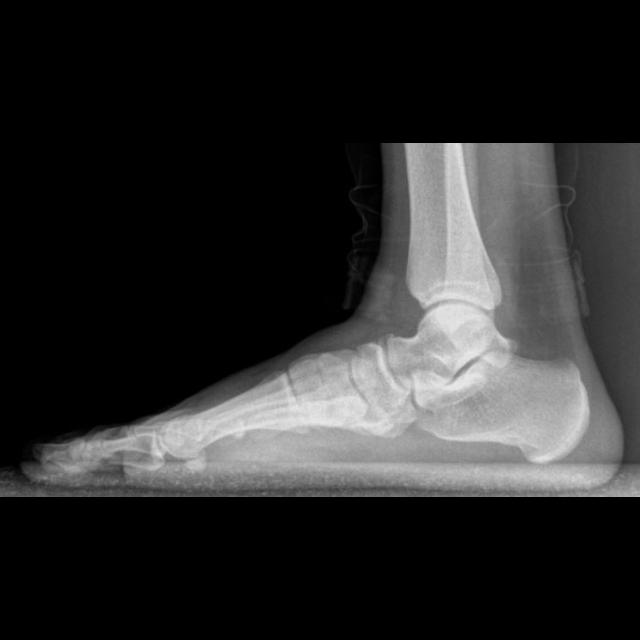a: (418, 356, 589, 463)
b: (351, 343, 409, 414)
c: (159, 370, 308, 476)
